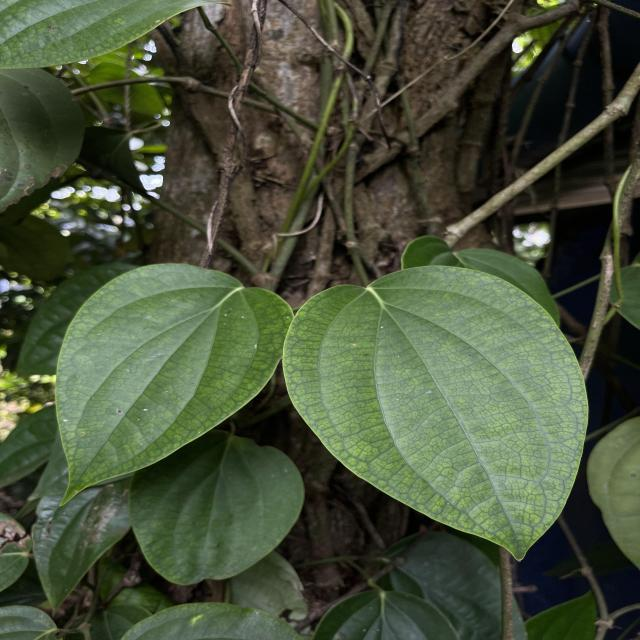Piper nigrum: (280, 264, 590, 564), (53, 261, 297, 508)
